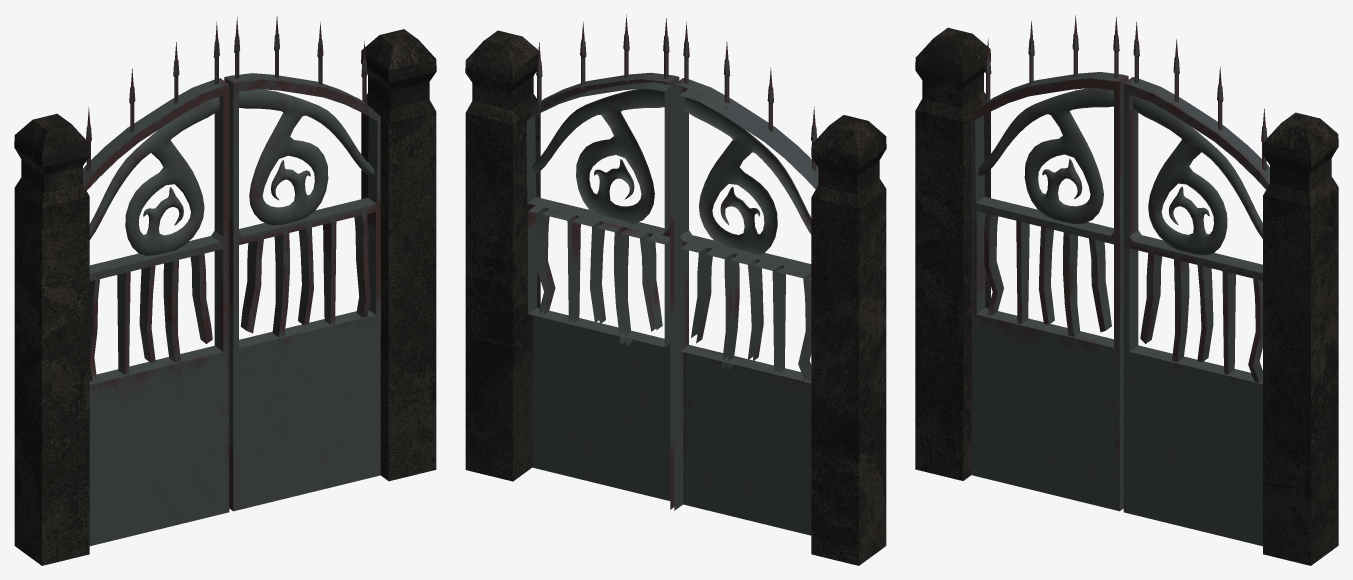
The model's file is Gate 1.fbx.
3 views of the same model, side by side, from view 1: azimuth 30°, elevation 25°; view 2: azimuth 150°, elevation 25°; view 3: azimuth 330°, elevation 25° (orthographic).
Visible parts, largest first — view 1: Gate1, pCube20; view 2: Gate1, pCube20; view 3: Gate1, pCube20.
Boxes of the visible parts, x1,y1,x2,y2 form: Gate1: [83, 16, 380, 546]; pCube20: [14, 29, 436, 565]; Gate1: [525, 14, 818, 535]; pCube20: [465, 30, 886, 565]; Gate1: [971, 15, 1269, 546]; pCube20: [915, 27, 1338, 565].
Size of the model in its own units: 140 by 166 by 16.96.
1 material, 1 textured.
